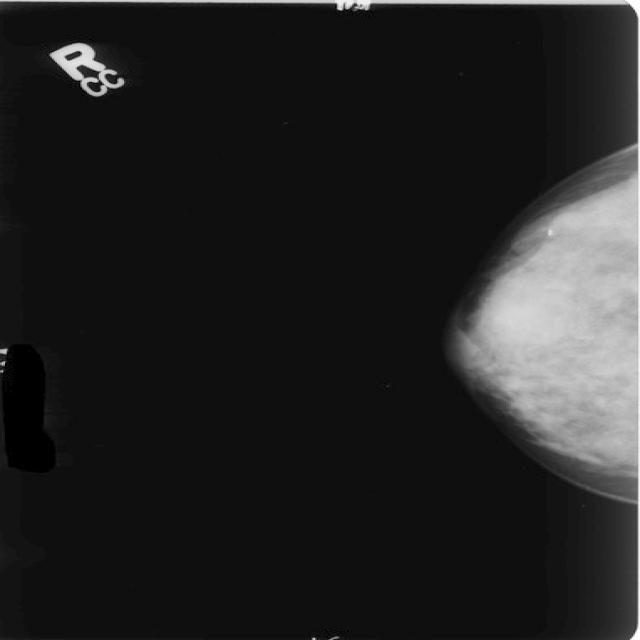tumour: (482, 272, 574, 344)
